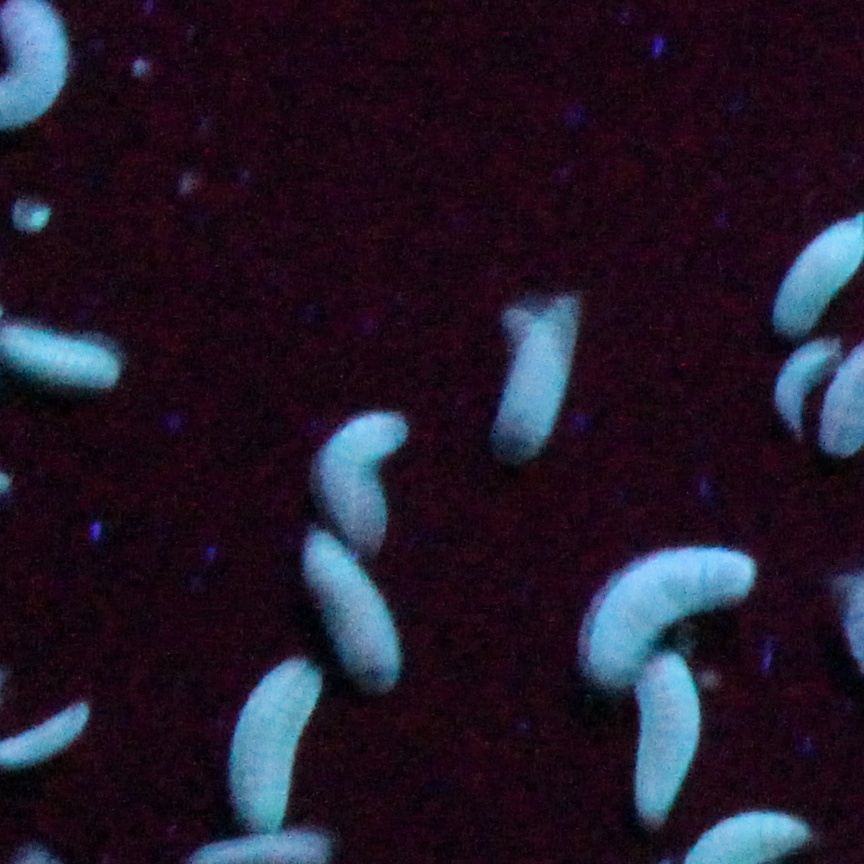larve: (568, 537, 758, 679), (227, 667, 320, 833), (304, 535, 402, 685), (627, 656, 702, 821), (316, 417, 408, 550), (506, 300, 577, 465), (770, 212, 864, 335), (2, 319, 120, 387), (766, 340, 835, 440), (1, 700, 95, 771)
